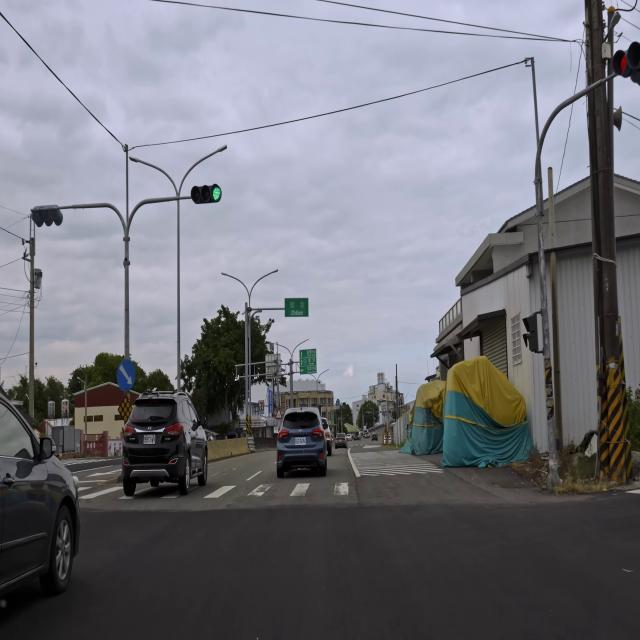green light: (191, 186, 222, 203)
